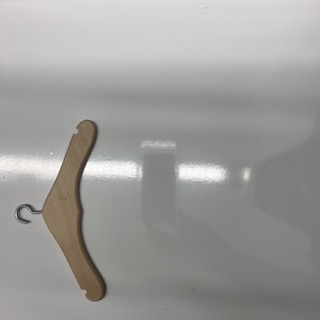rack: (13, 119, 106, 302)
